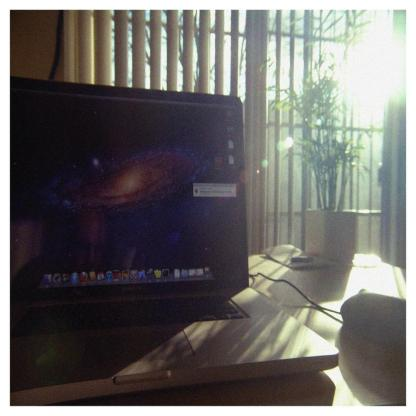board: (2, 67, 282, 366)
